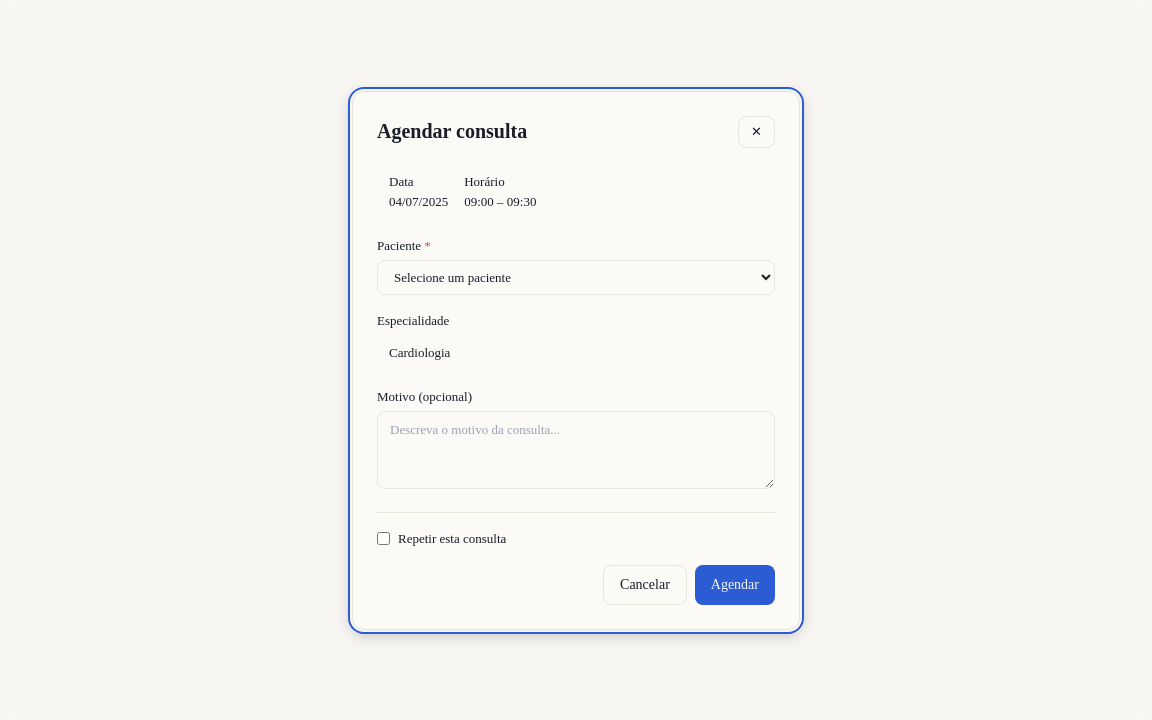
Test case: BookAppointmentDialog (integration) › shows 409 conflict error alert
The width and height of the screenshot is (1152, 720).
Select "Patient One" in the dropdown with test id "book-dialog-patient" at (576, 277), box [377,260,775,294]
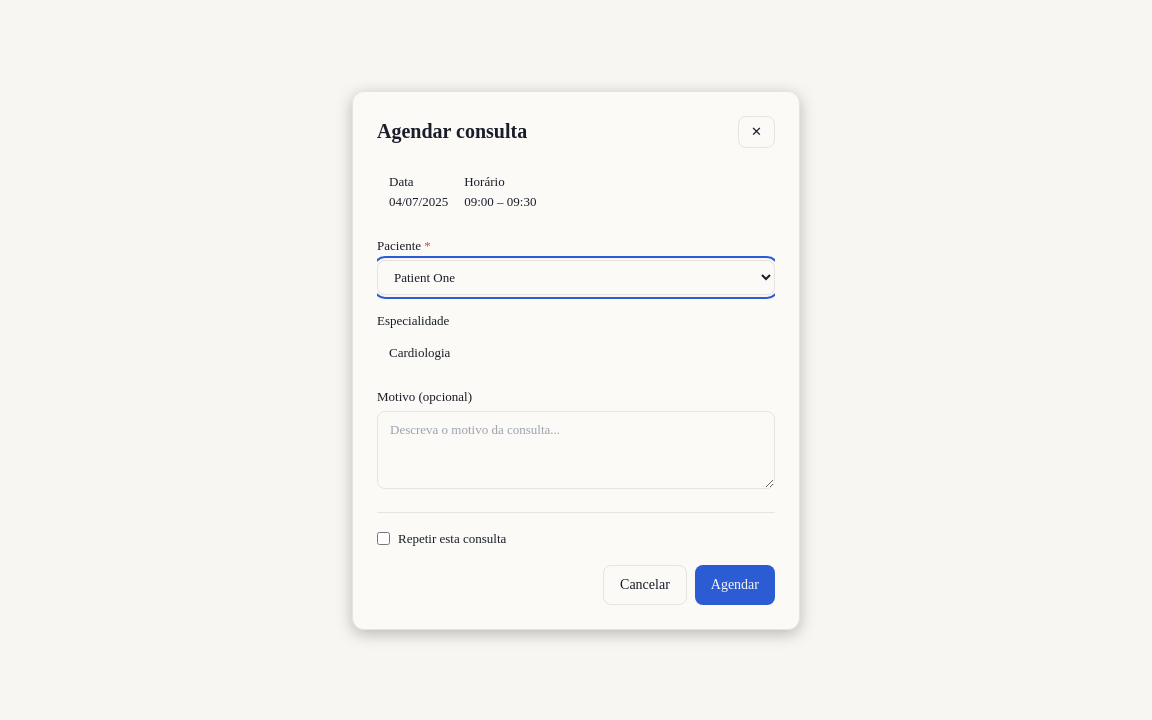
Click the button with test id "book-dialog-submit" at (735, 584), box [695,564,775,604]
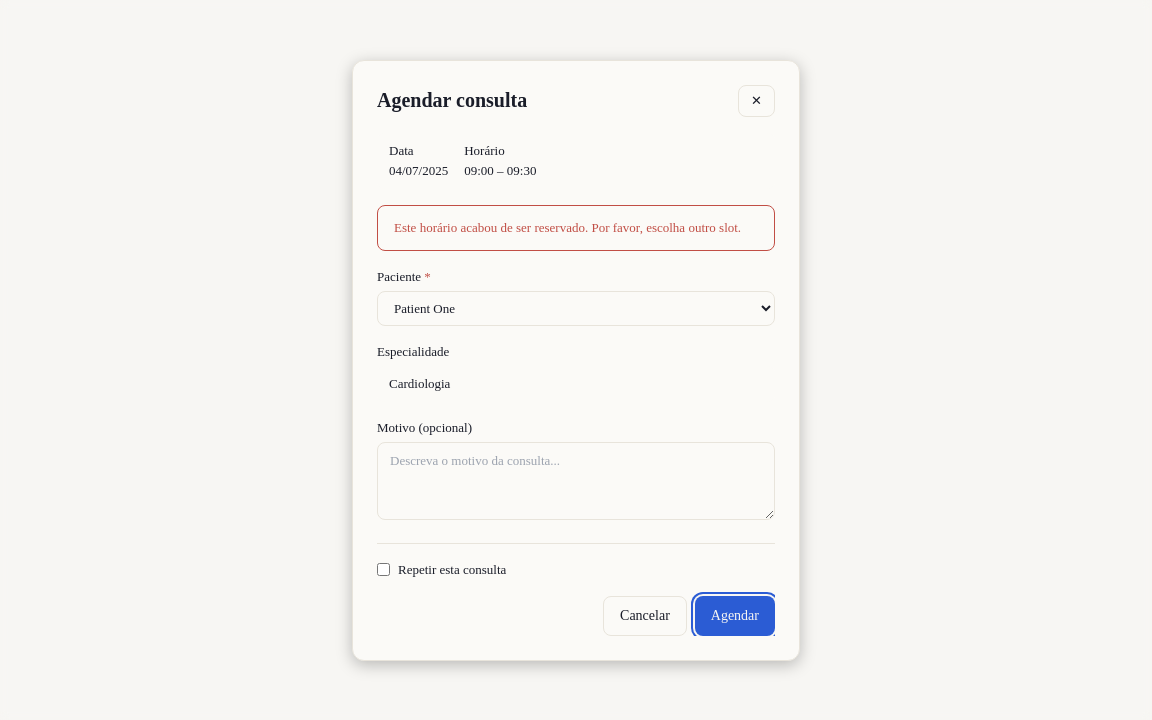
Check: the message "Este horário acabou de ser reservado. Por favor, escolha outro slot." is shown, box [377,204,775,250]
Check: the message with test id "book-dialog-error" shows "acabou de ser reservado", box [394,220,741,234]
